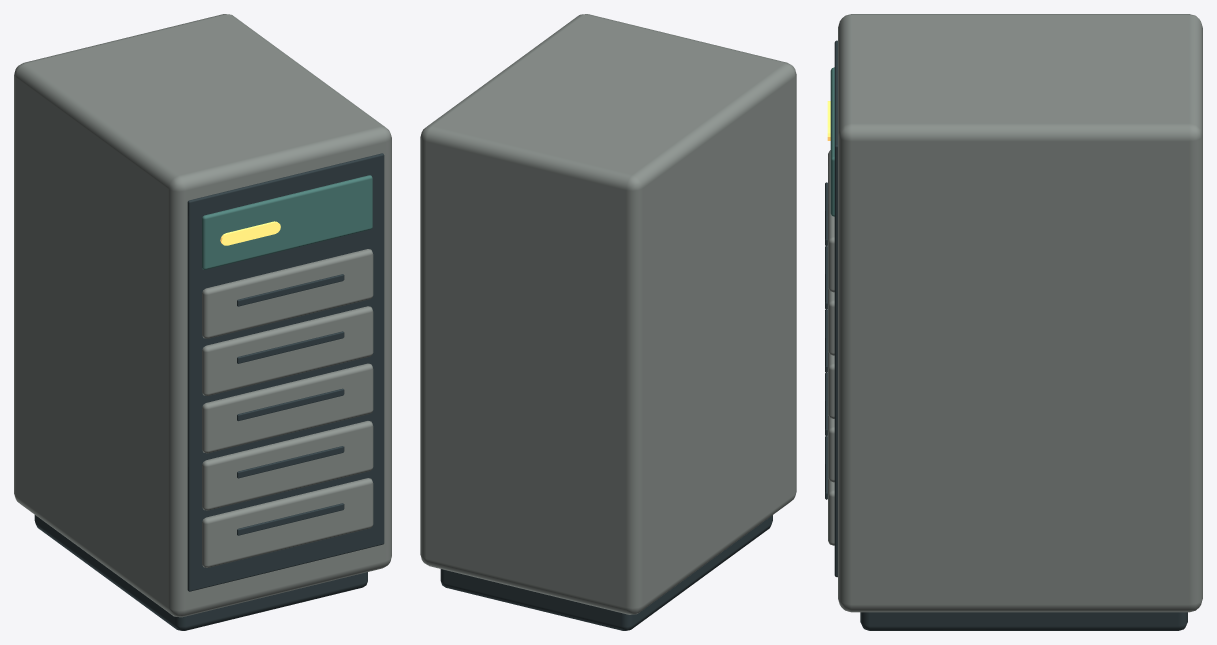
Rendered from kit_rack_compact_v1.glb.
3 views of the same model, side by side, from view 1: azimuth 30°, elevation 25°; view 2: azimuth 150°, elevation 25°; view 3: azimuth 270°, elevation 25° (orthographic). The views are drawn at different scales.
Parts seen in each view (by area): view 1: body, status_led; view 2: body; view 3: body.
Boxes of the visible parts, left/top/right/bottom form: body: left=14, top=14, right=391, bottom=630; status_led: left=220, top=221, right=280, bottom=245; body: left=420, top=14, right=796, bottom=630; body: left=825, top=14, right=1202, bottom=630.
Bounding box in the file's own units: 0.6 × 1.2 × 0.8.
